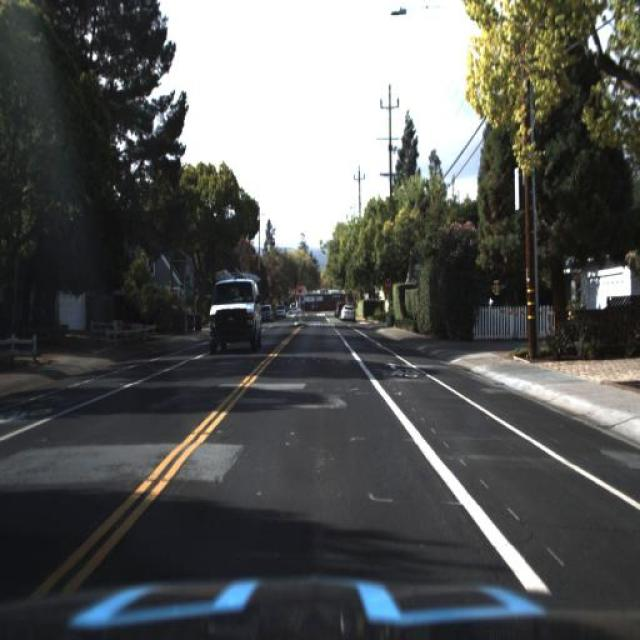car: (204, 270, 265, 350), (339, 299, 355, 322)
